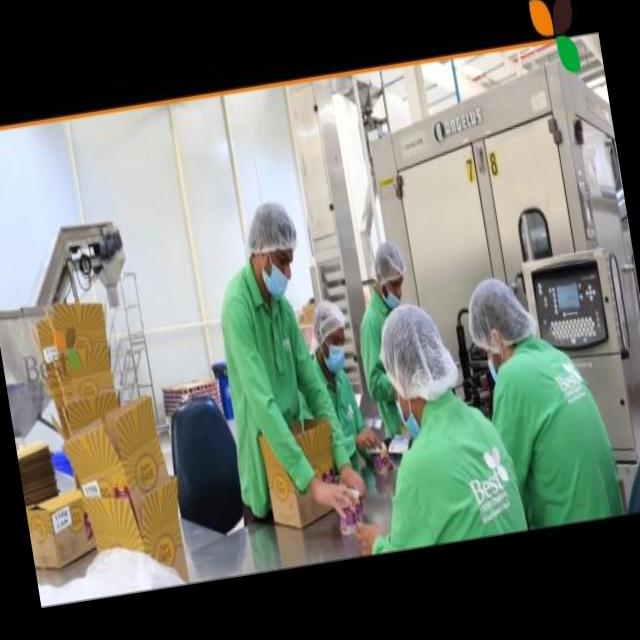hairnet: (463, 276, 538, 352), (376, 302, 434, 376), (244, 202, 298, 253), (310, 298, 346, 336), (372, 238, 403, 275)
